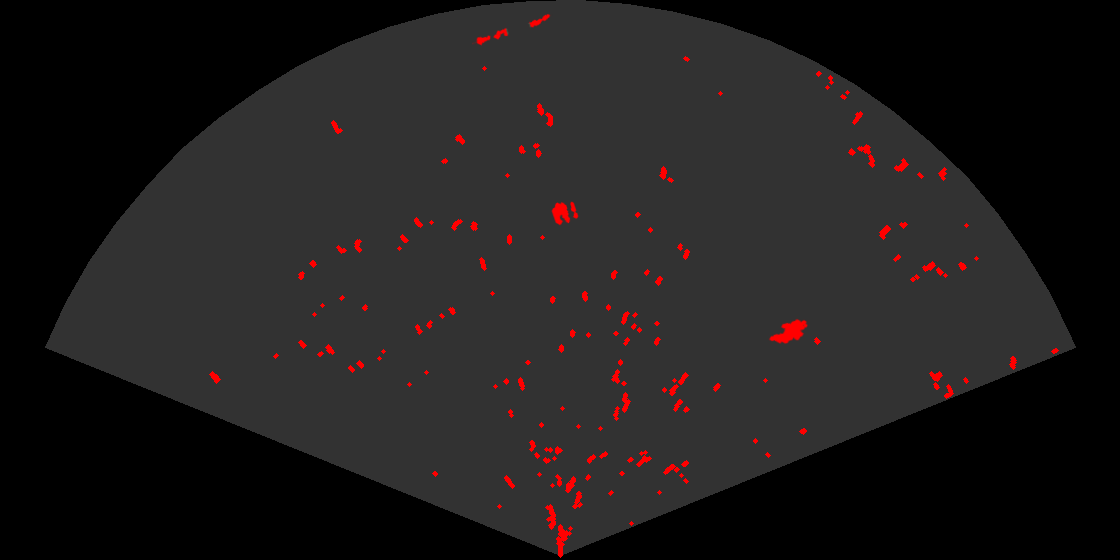AUV: (767, 317, 810, 346)
ball: (550, 200, 580, 227)
chain: (472, 12, 553, 47)
